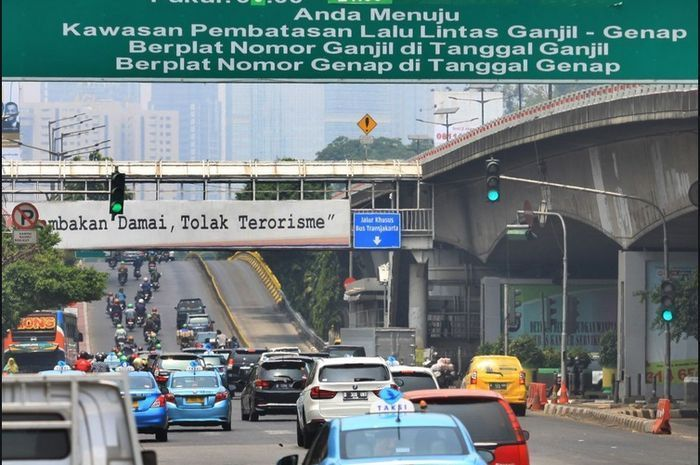plate: (344, 392, 366, 400), (490, 383, 508, 390), (276, 384, 292, 390), (186, 398, 201, 403)
